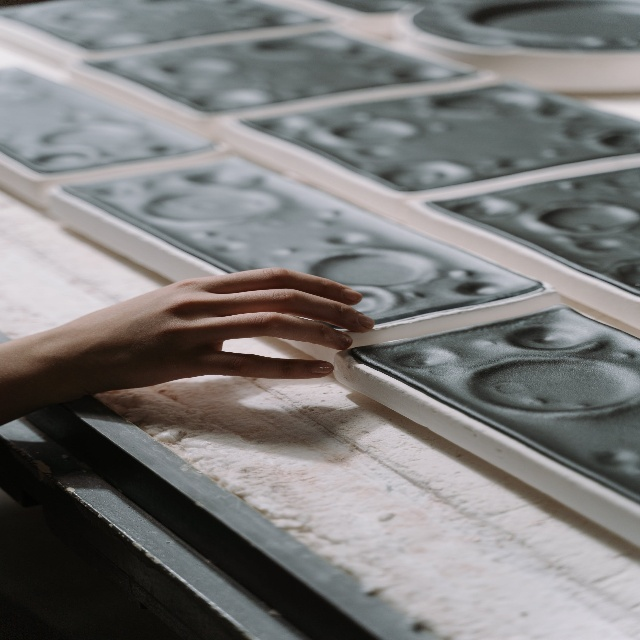Sin_guantes: (37, 266, 375, 405)
